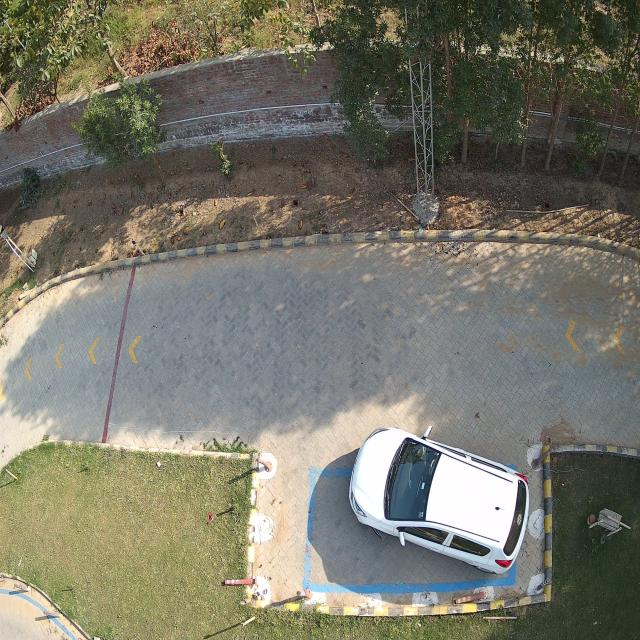car: (347, 428, 528, 576)
